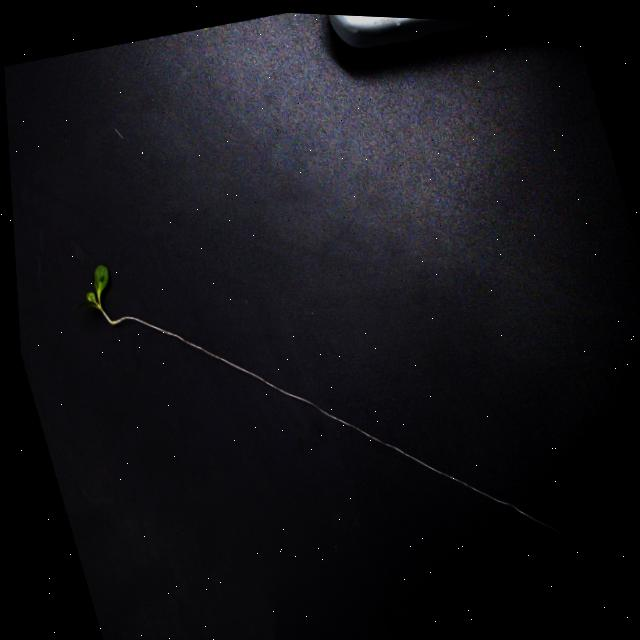leaf: (94, 264, 108, 304), (73, 300, 98, 309), (86, 291, 96, 302)
root: (137, 322, 586, 549)
steb: (95, 305, 115, 330)
